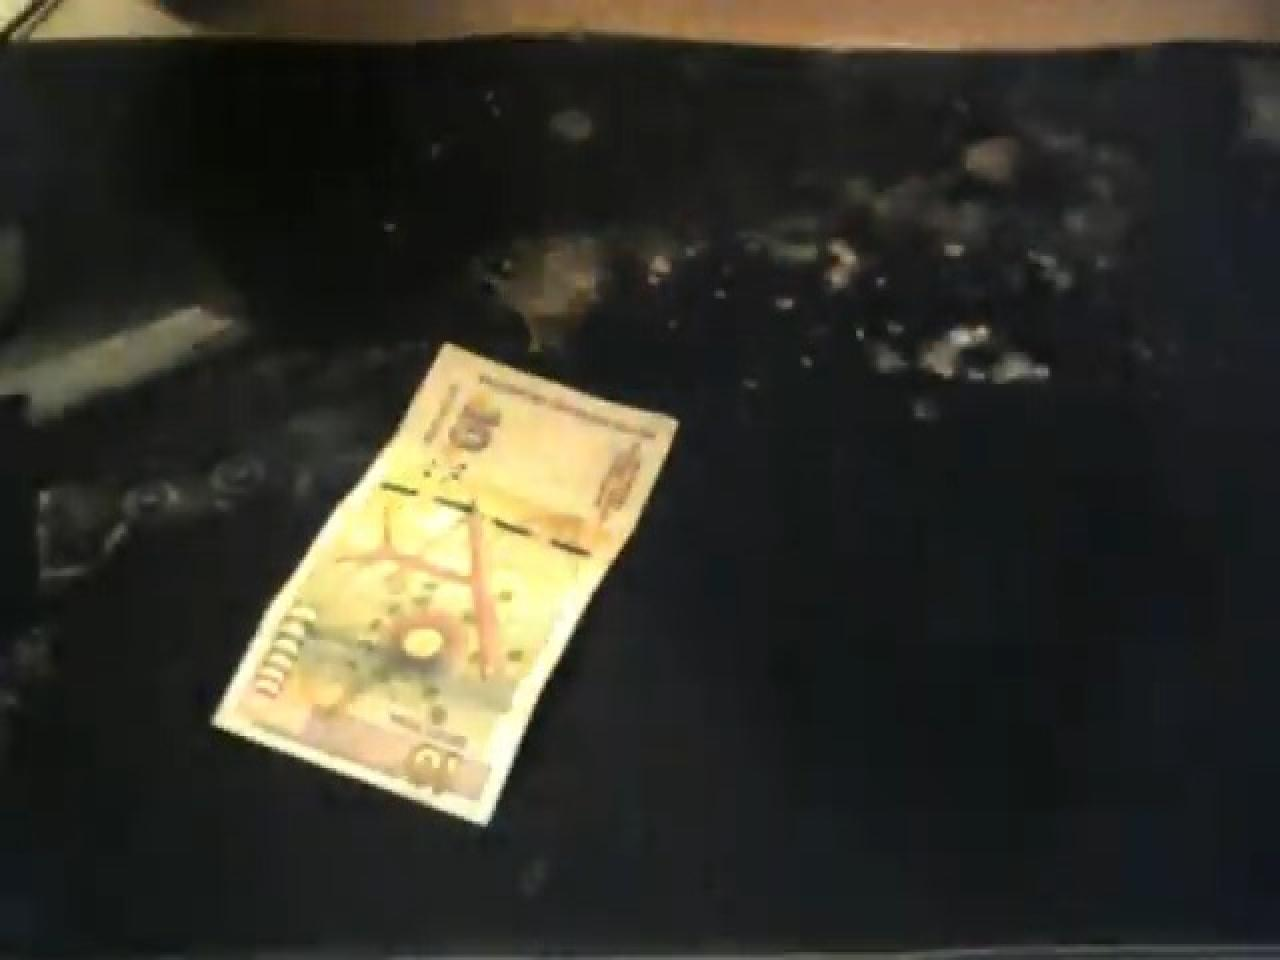10leva: (208, 336, 680, 829)
